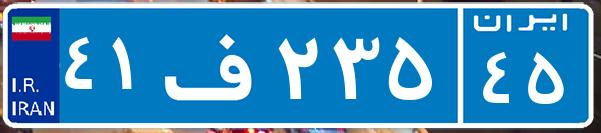1: (110, 28, 158, 105)
2: (273, 28, 330, 110)
3: (330, 28, 385, 110)
4: (57, 26, 110, 107), (475, 38, 525, 113)
5: (385, 28, 445, 110), (525, 38, 570, 115)
ف: (158, 15, 273, 115)
